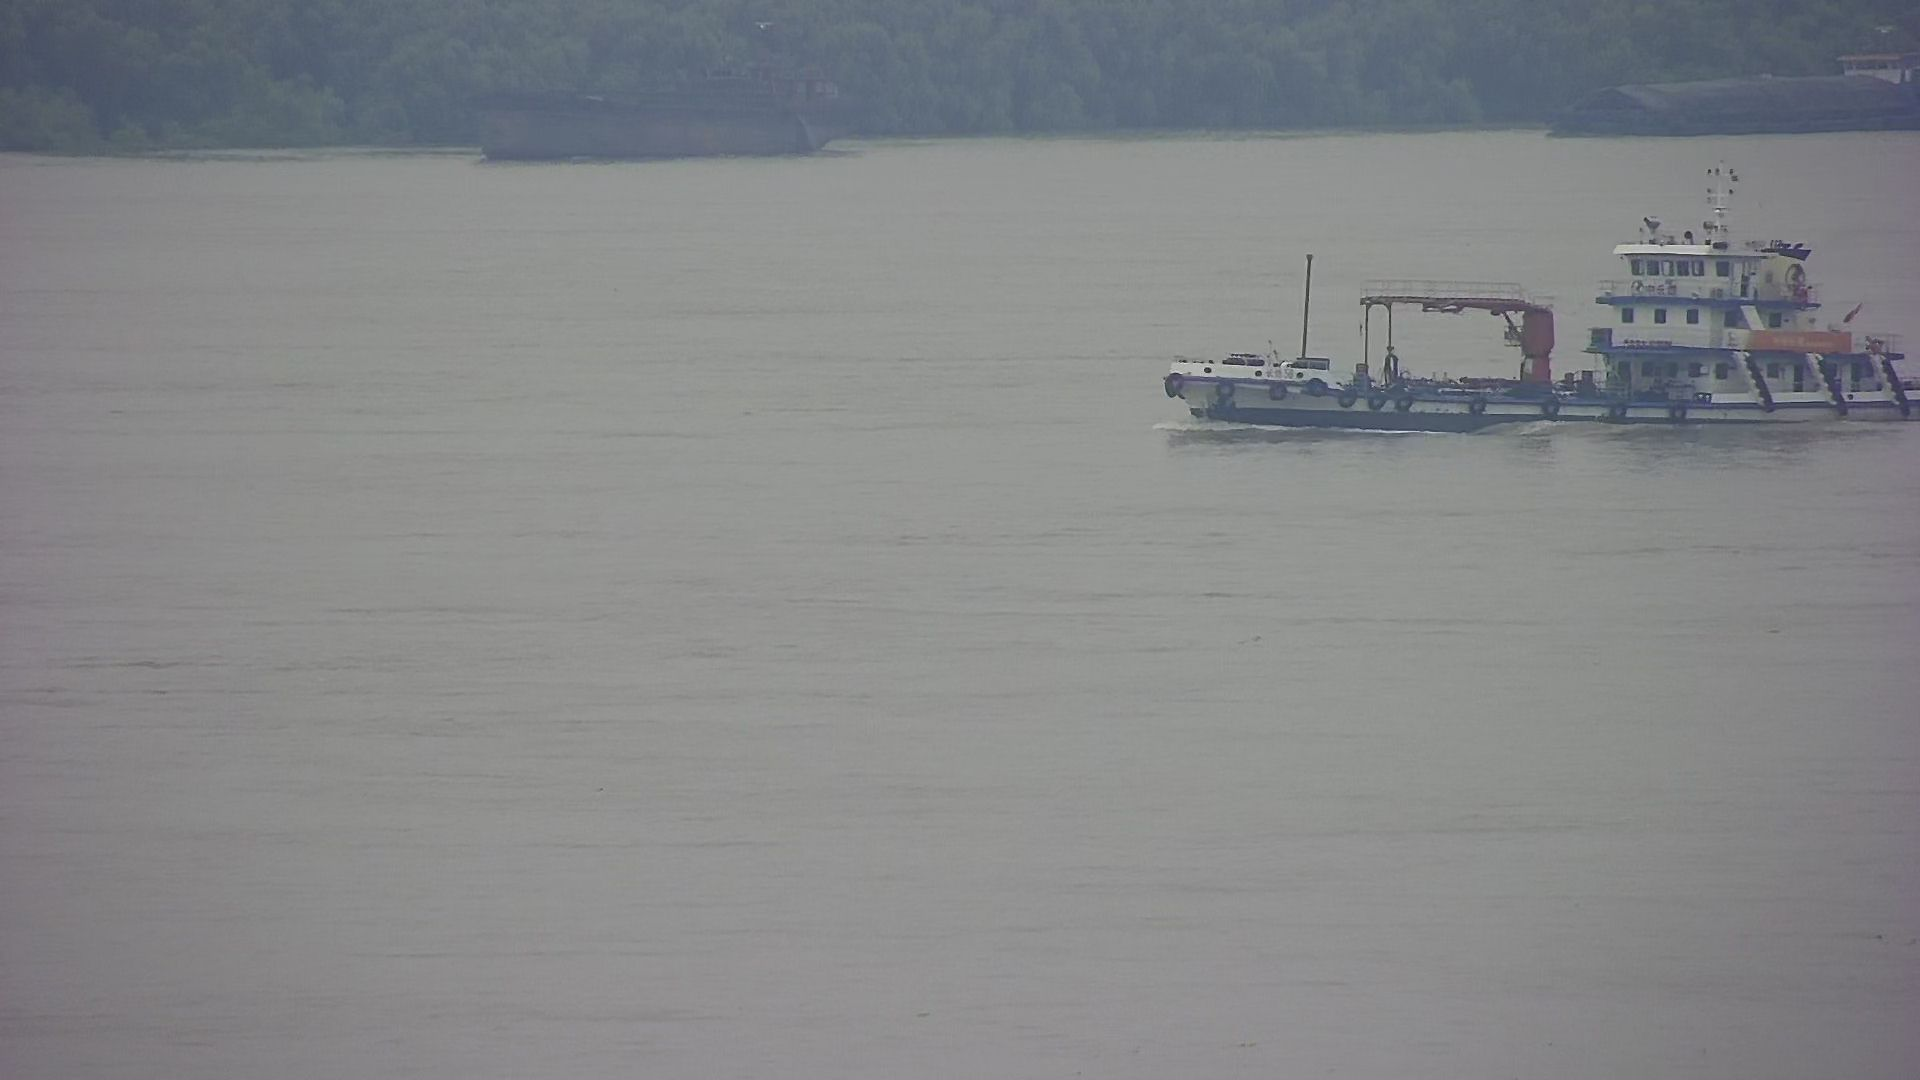ship: (1138, 215, 1919, 455), (448, 36, 882, 173), (1524, 30, 1920, 160)
